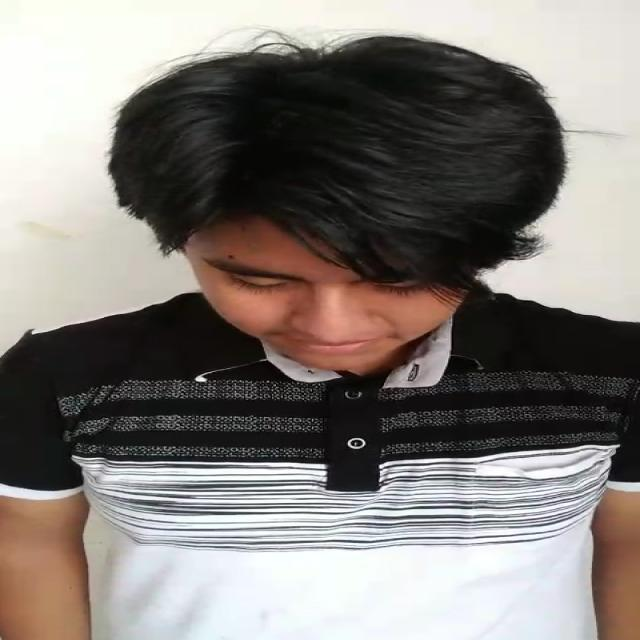9_cabeza_baja: (111, 35, 564, 367)
